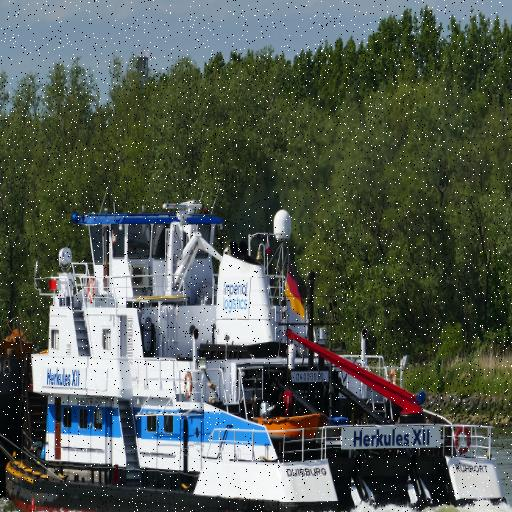tugboat: (1, 196, 512, 512)
